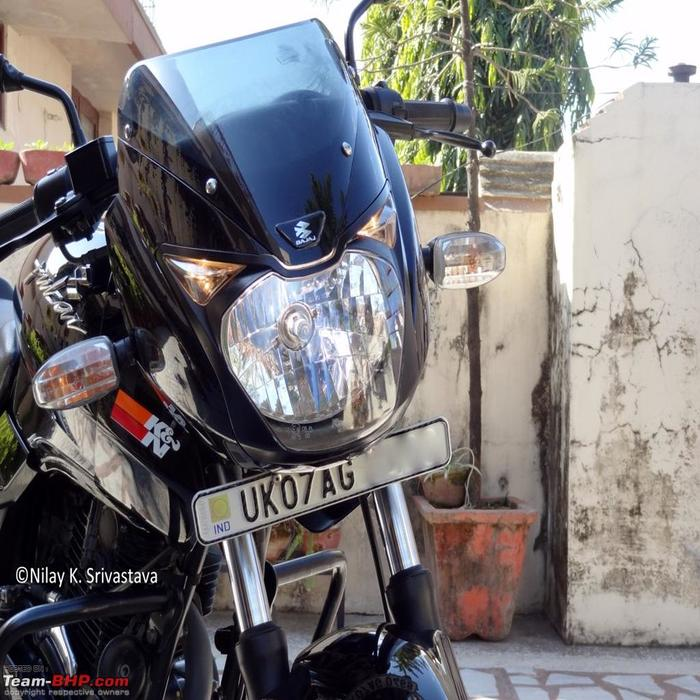n: (200, 444, 388, 526)
